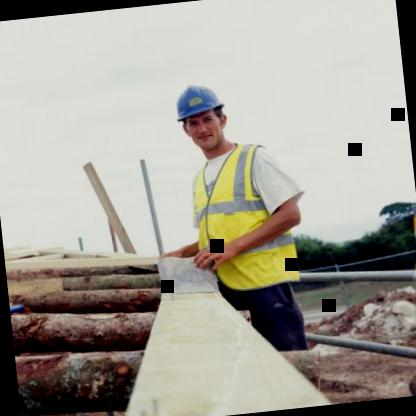helmet: (170, 79, 234, 159)
